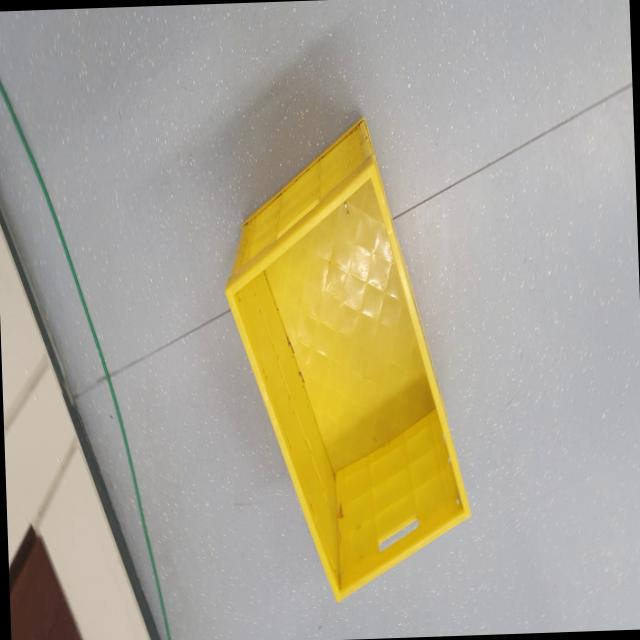box: (214, 87, 488, 630)
